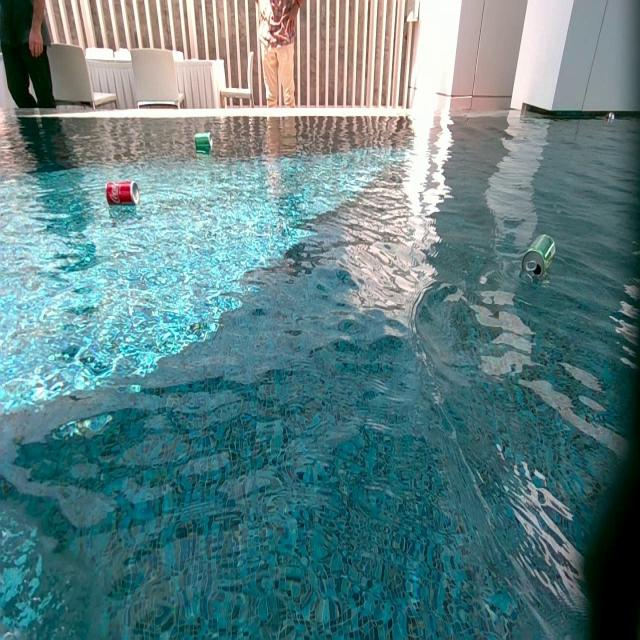Cans: (520, 234, 556, 278), (106, 182, 138, 208), (196, 133, 213, 152), (607, 113, 615, 122)
